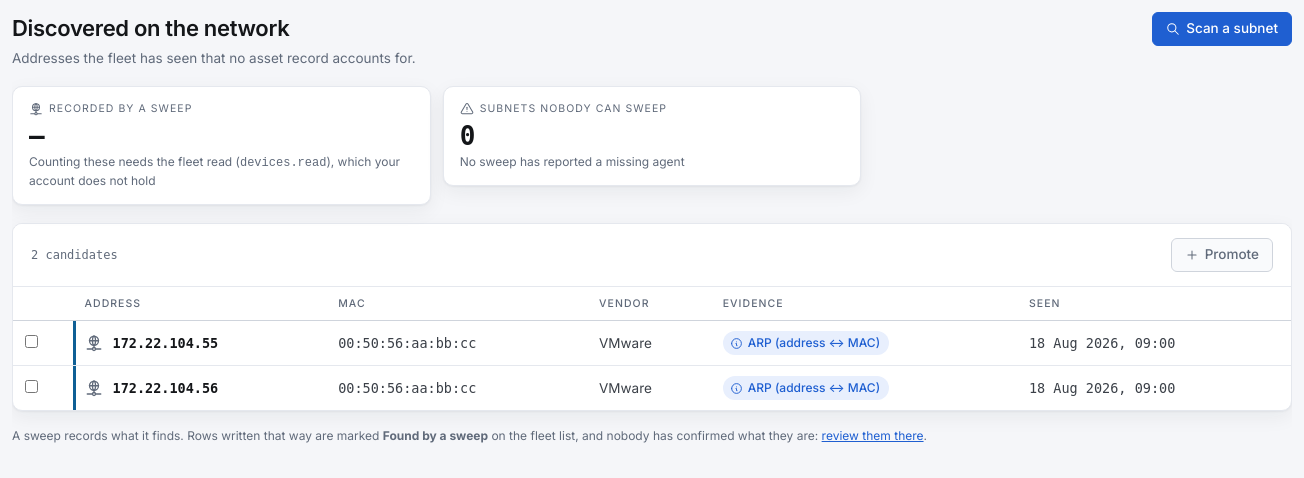
what a promote actually did › names the addresses that did NOT become assets, and why
The image size is (1304, 478).
Expected: the text "172.22.104.55" is shown, [112, 333, 218, 354]
Click the checkbox named "172.22.104.55" at (32, 342), box [25, 335, 38, 348]
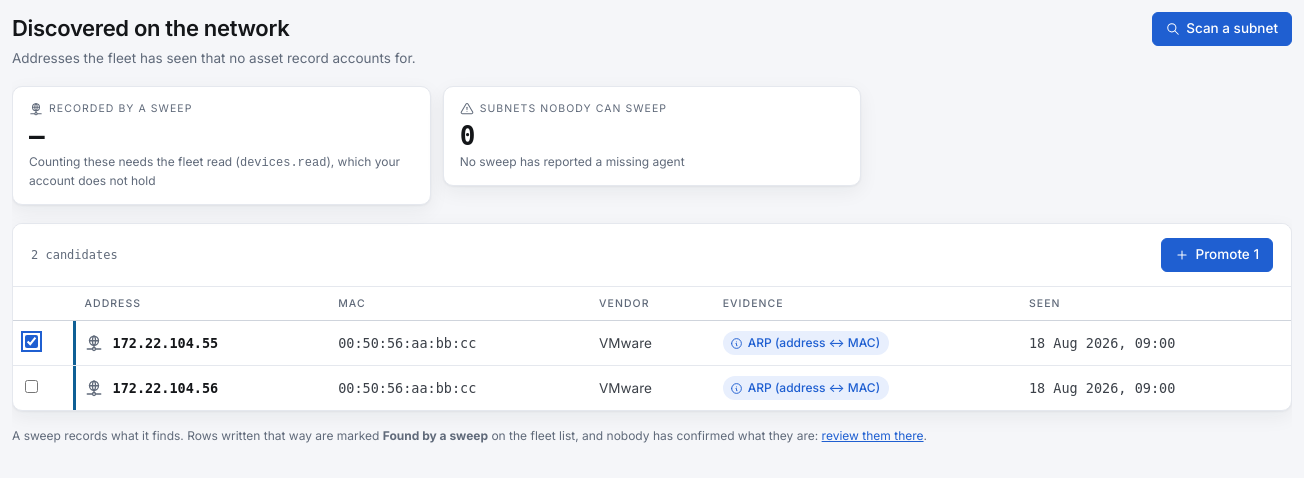
Click the button "Promote 1" at (1217, 255), box [1162, 238, 1273, 272]
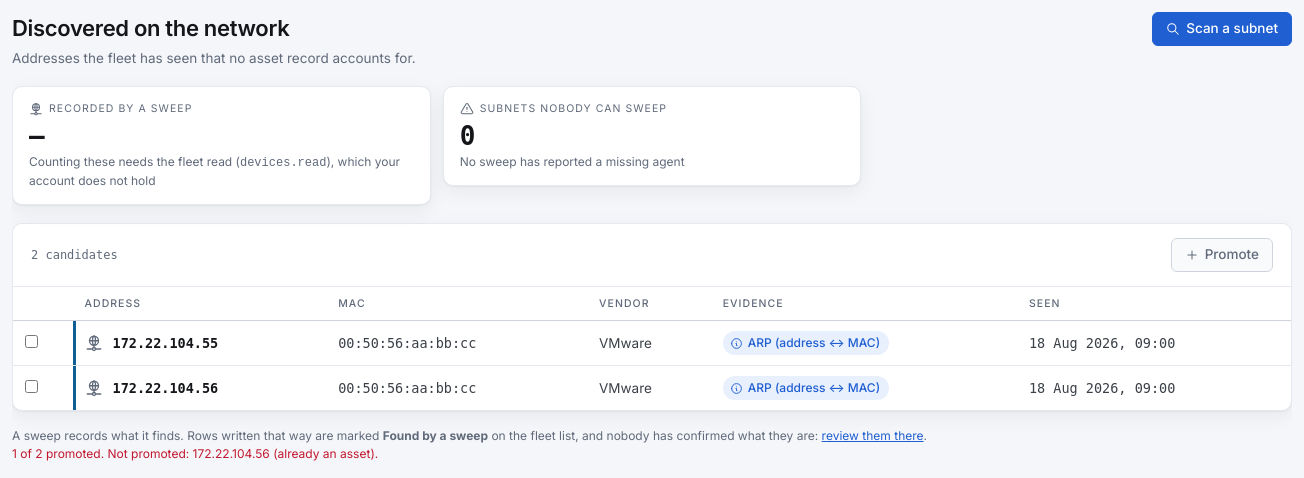
Result: the message shows "1 of 2 promoted" at [12, 446, 378, 461]
Result: the message shows "172.22.104.56 (already an asset)" at [12, 446, 378, 461]
